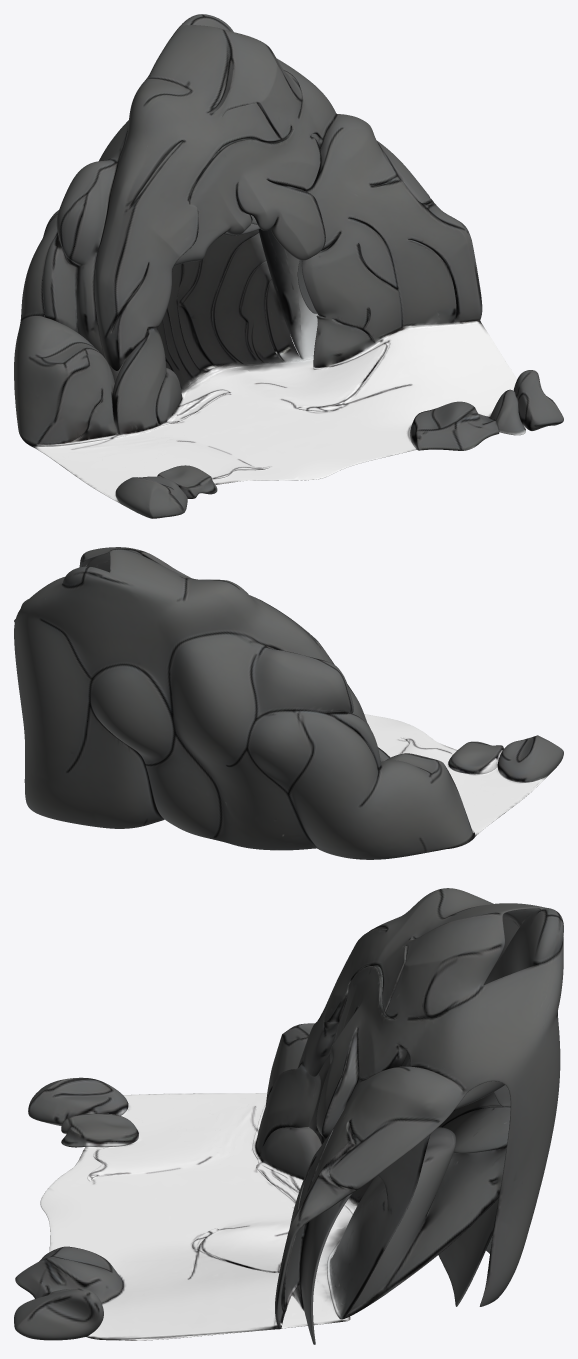
The model's file is liang_bua.glb.
3 views of the same model, one above another, from view 1: azimuth 30°, elevation 25°; view 2: azimuth 150°, elevation 25°; view 3: azimuth 270°, elevation 25° (orthographic). The views are drawn at different scales.
Parts seen in each view (by area): view 1: convert; view 2: convert; view 3: convert.
Boxes of the visible parts, bbox=[...] form: convert: bbox=[14, 14, 563, 518]; convert: bbox=[14, 547, 563, 859]; convert: bbox=[14, 888, 563, 1344].
Bounding box in the file's own units: 0.8745 × 0.5378 × 0.7754.
1 material, 1 textured.
